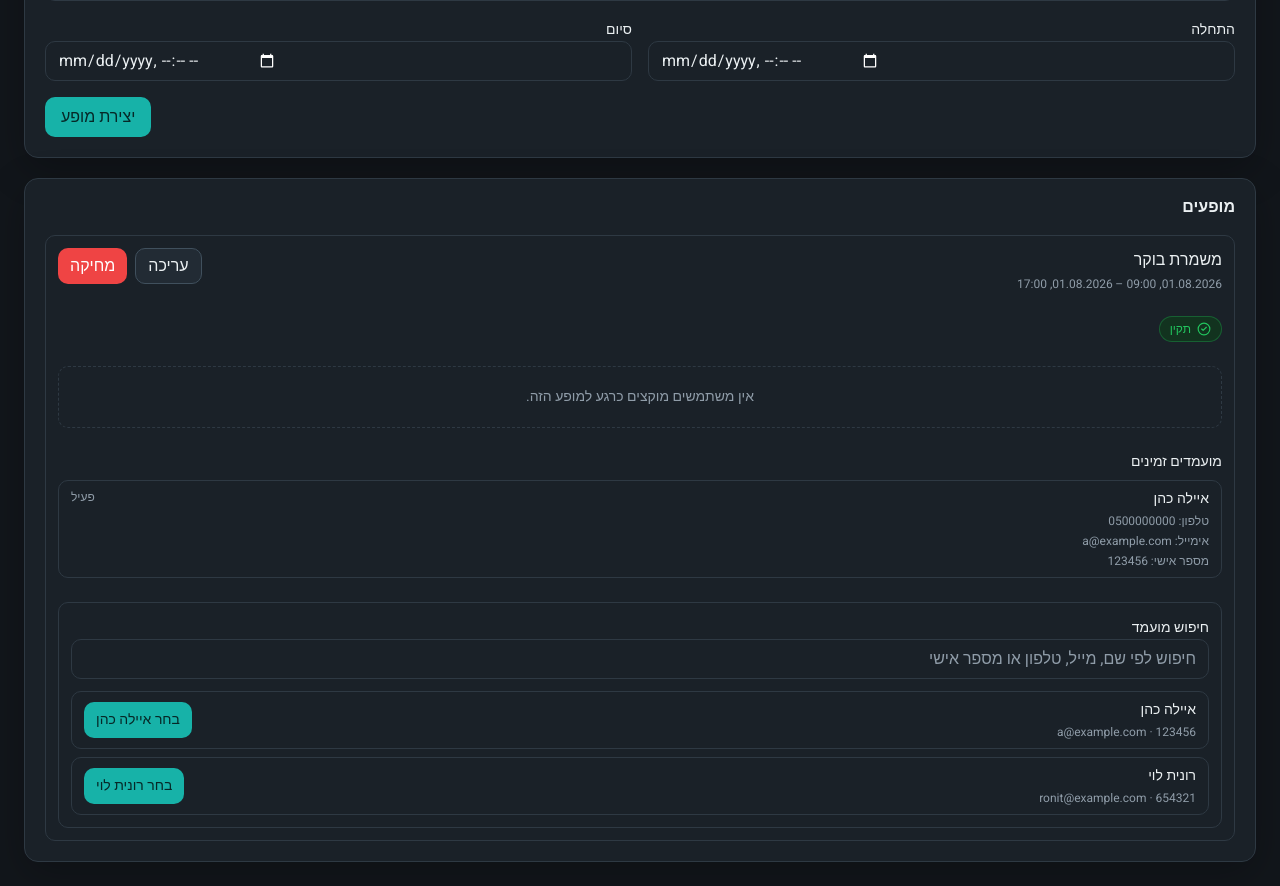
ActivityTaskInstancesPage › shows the pending state and prevents duplicate clicks while assignment is in flight
The width and height of the screenshot is (1280, 886).
(page scrolled)
Type "רונית" into the field labelled "חיפוש מועמד" at (640, 659), box [71,639,1209,679]
(page scrolled)
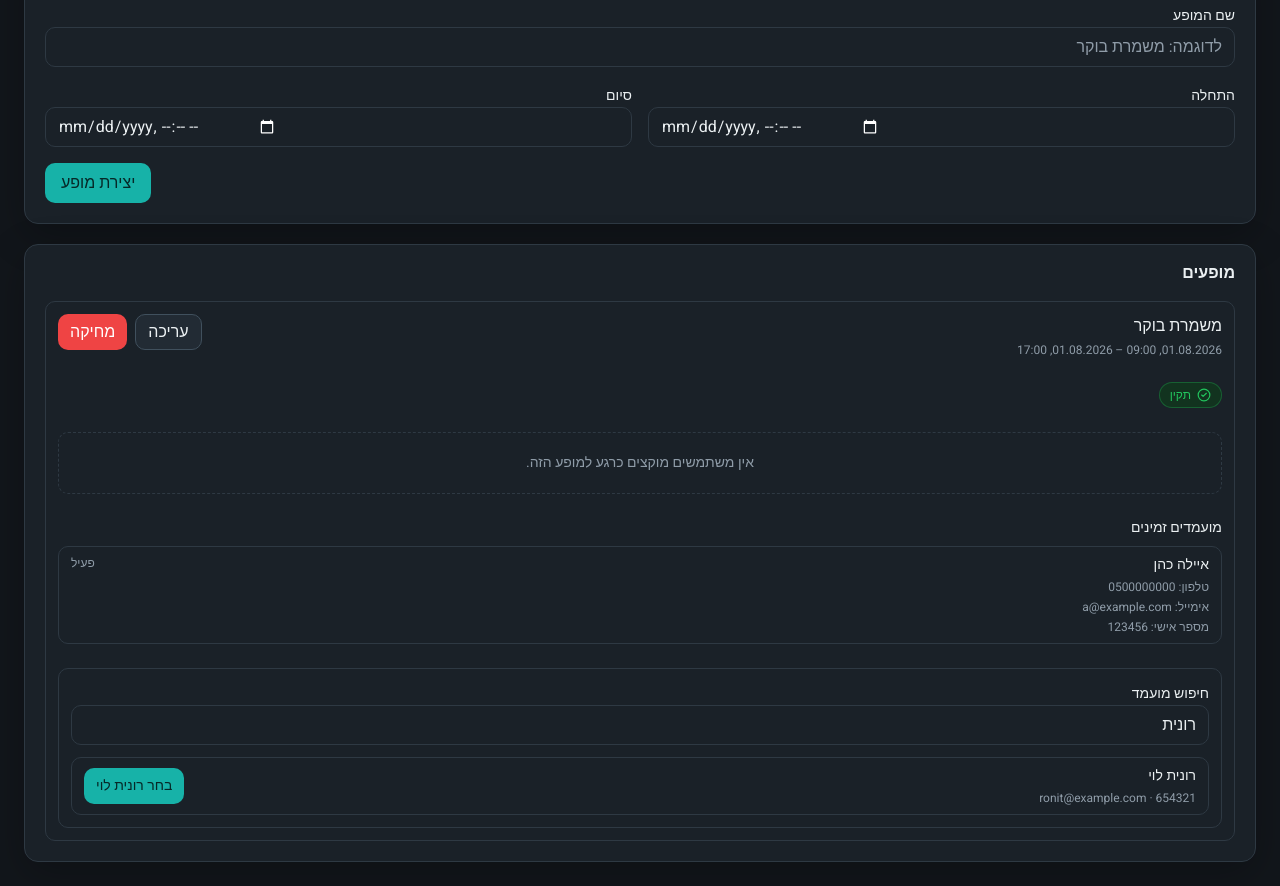
Click the button "בחר רונית לוי" at (134, 786), box [84,768,184,804]
(page scrolled)
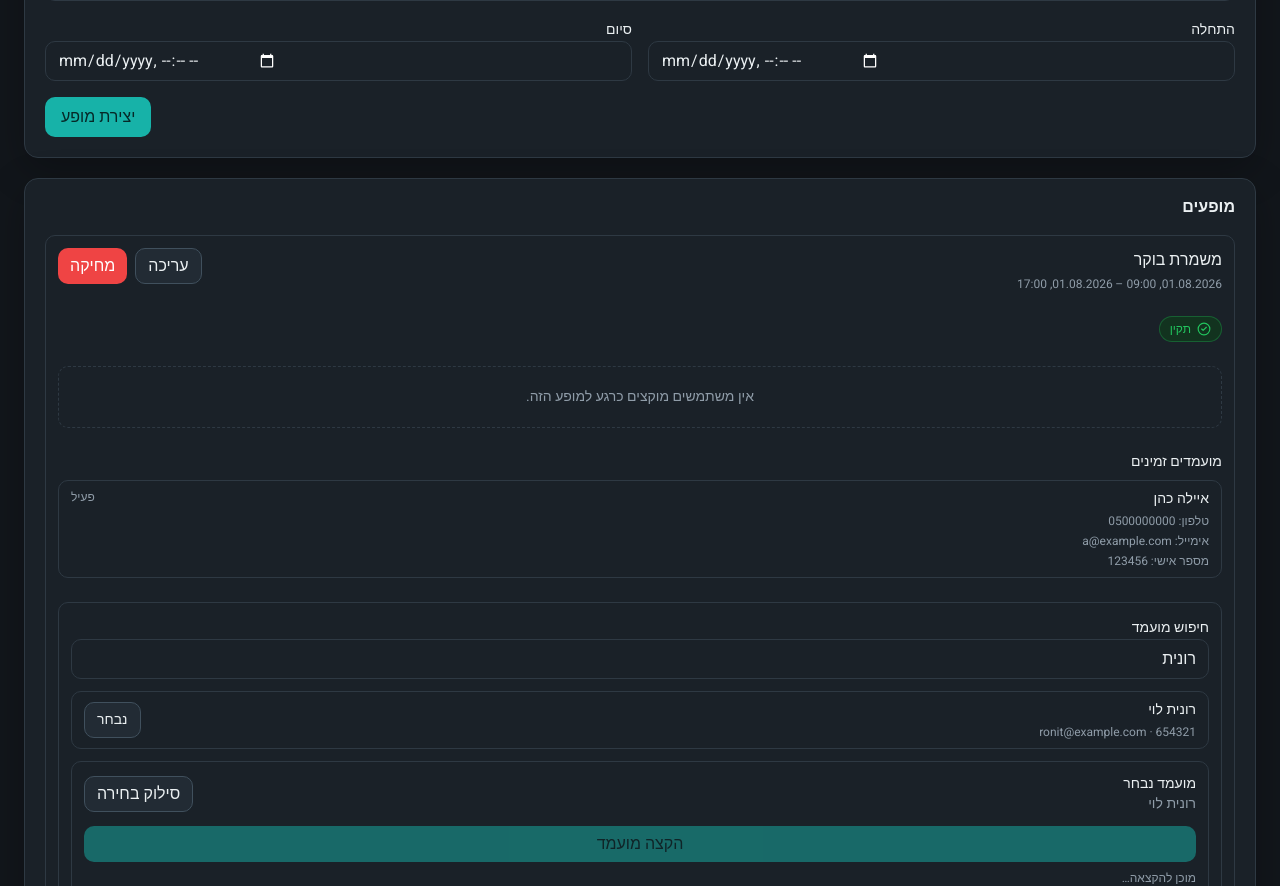
expect the button "הקצה מועמד" is disabled: met, box [84,826,1196,862]
